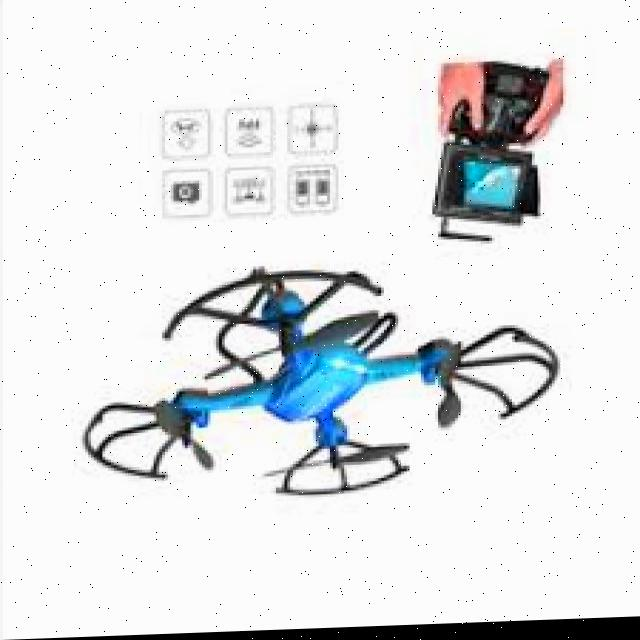drone: (50, 264, 582, 538)
